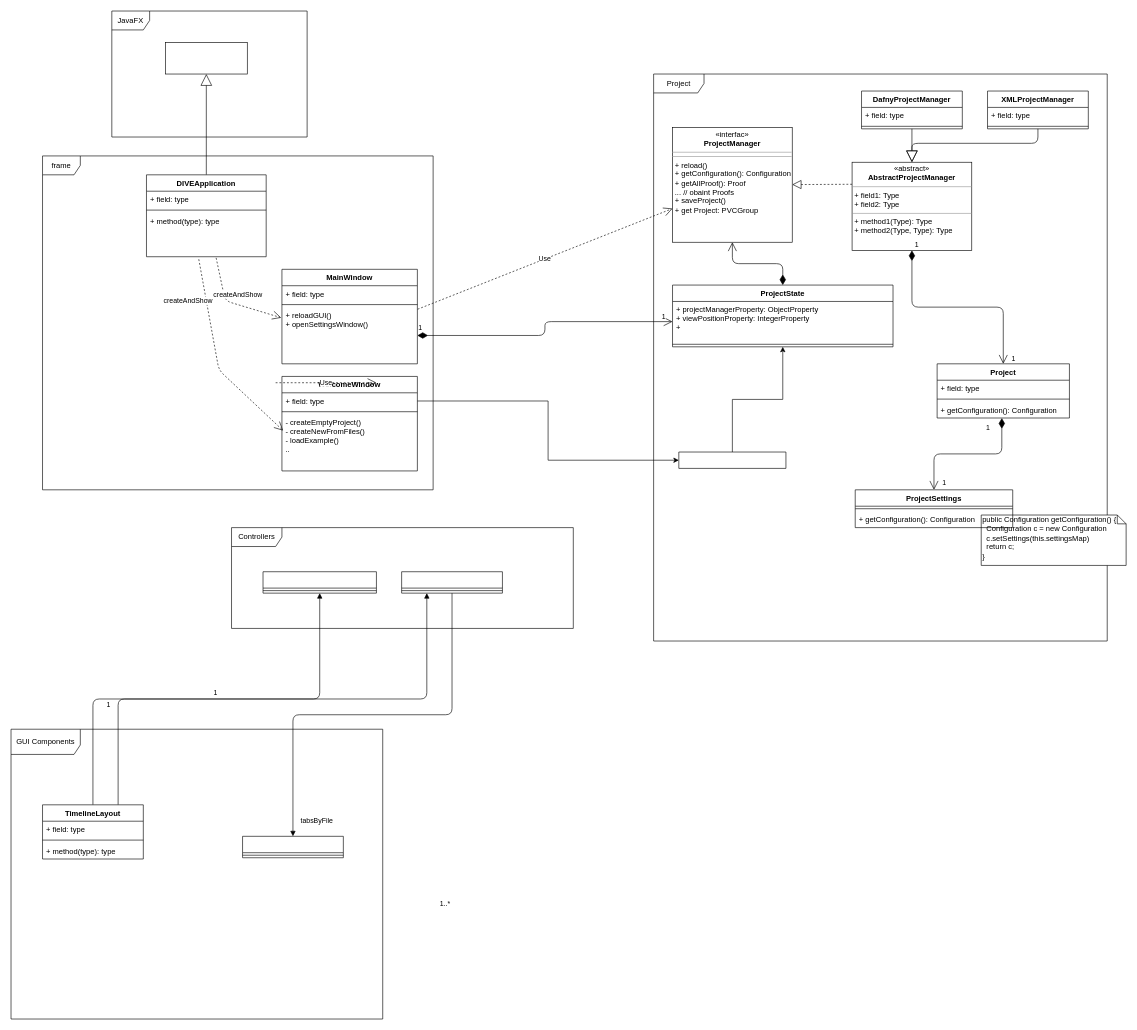
Image size: 1137x1030. Some labels were removed from this diagram. Each missing label, with the centre of its shape:
"DafnyCodeArea" goes at (x=292, y=847).
"EditorController" goes at (x=451, y=582).
"ProjectSettingsCotroller" goes at (x=732, y=459).
"RuleApplicationController" goes at (x=319, y=582).
"«abstract» Application" goes at (x=206, y=58).
